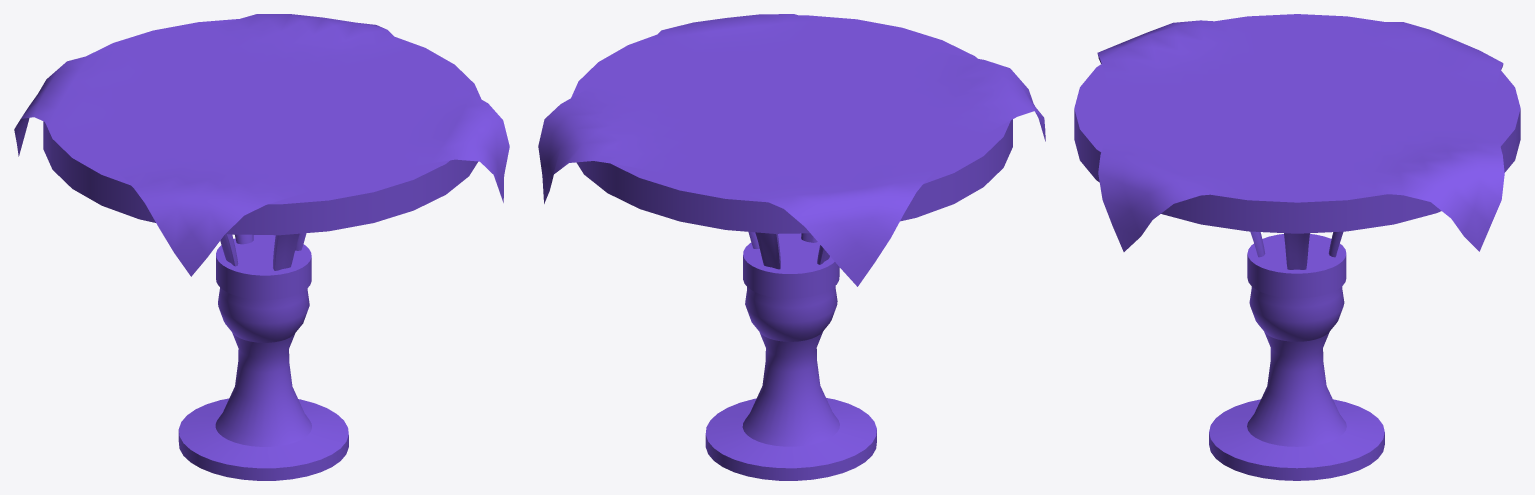
Rendered from S_Table.fbx.
The picture shows the model from 3 angles, left to right: view 1: azimuth 30°, elevation 25°; view 2: azimuth 150°, elevation 25°; view 3: azimuth 270°, elevation 25°; orthographic projection.
Visible parts, largest first — view 1: Nappe_low, Base_low, Table_low, Support_low; view 2: Nappe_low, Base_low, Table_low, Support_low; view 3: Nappe_low, Base_low, Table_low, Support_02_low, Support_low.
Boxes of the visible parts, x1,y1,x2,y2 form: Nappe_low: (14,14,509,276); Base_low: (178,235,348,480); Table_low: (43,19,481,235); Support_low: (235,233,299,270); Nappe_low: (538,14,1045,286); Base_low: (705,233,876,480); Table_low: (571,15,1012,233); Support_low: (755,232,817,269); Nappe_low: (1097,20,1504,251); Base_low: (1209,234,1384,480); Table_low: (1074,14,1520,233); Support_02_low: (1284,233,1309,269); Support_low: (1250,231,1343,257).
Size of the model in its own units: 1.08 by 0.9151 by 1.08.
